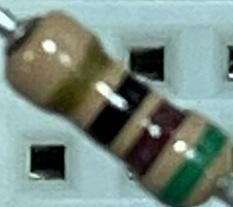Black: (82, 70, 153, 150)
Brown: (122, 96, 191, 183)
Green: (154, 119, 231, 207)
Side-Gold: (38, 32, 114, 116)
